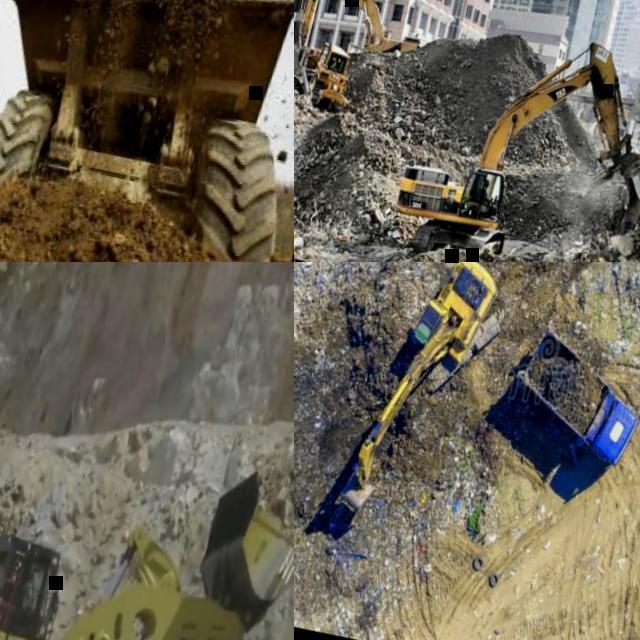vest: (330, 61, 338, 70)
